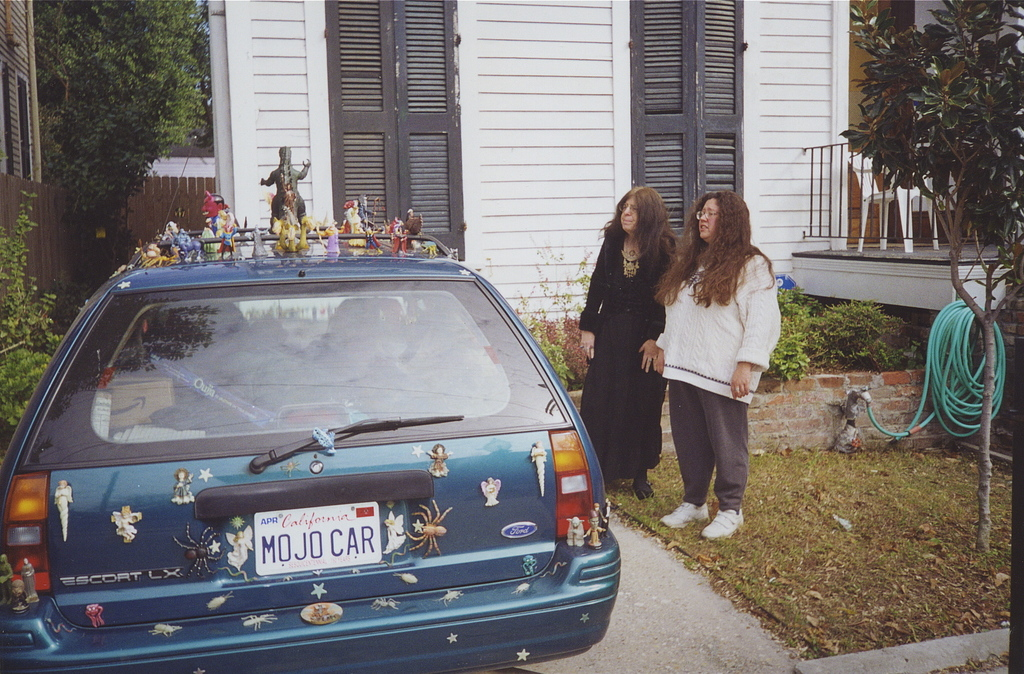Car: (0, 229, 634, 673)
